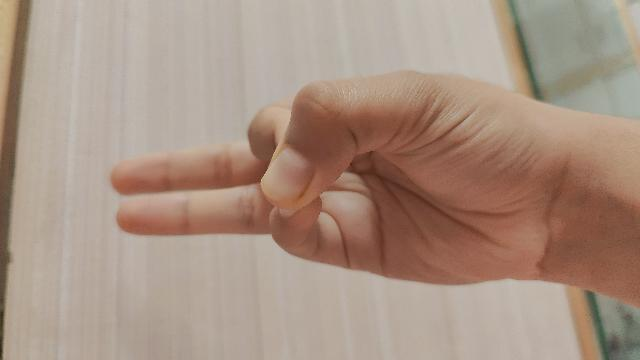katak: (110, 70, 640, 312)
